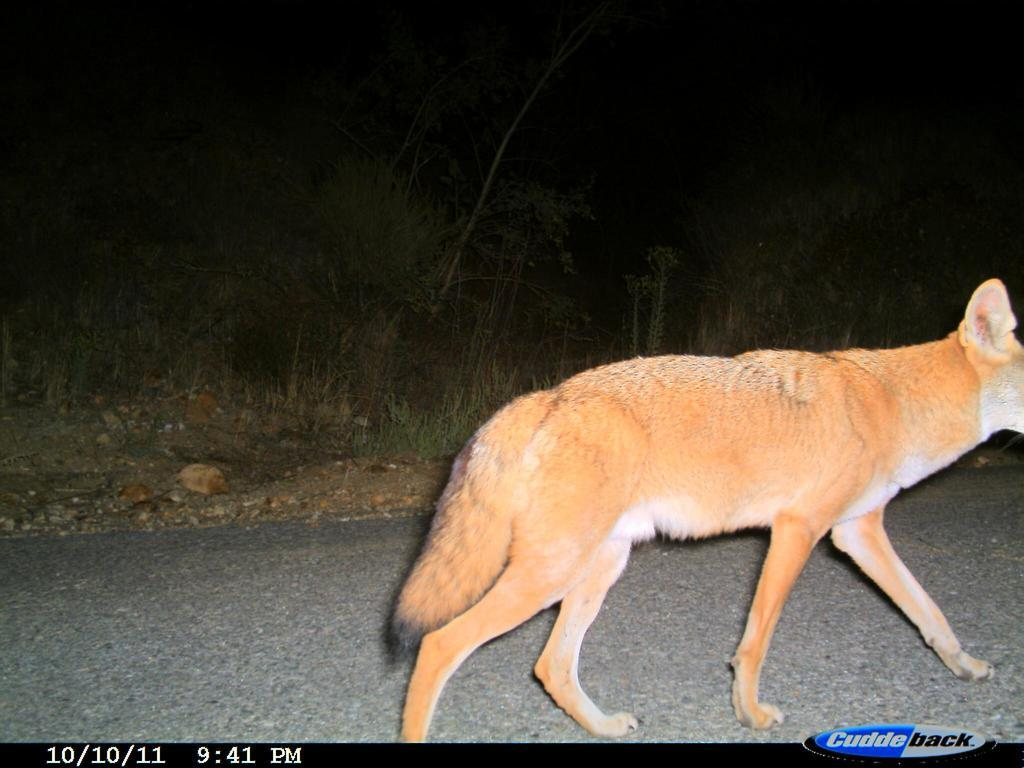coyote: (379, 273, 1022, 742)
